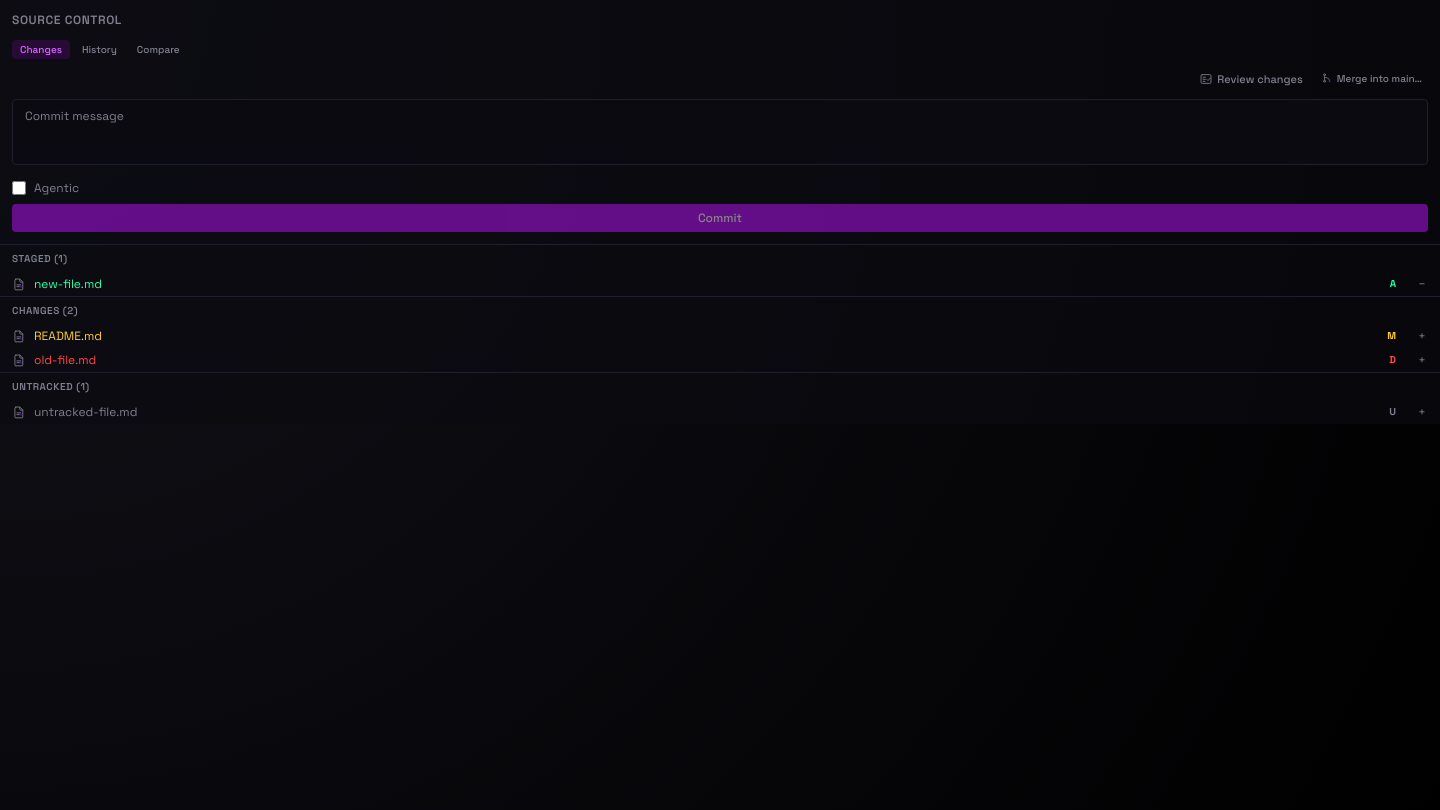
Test: SourceControlPanel › keeps the file when the question is declined
This screenshot has width=1440, height=810.
Right-click the text "README.md" at (68, 336), box x1=34 y1=328 x2=102 y2=344
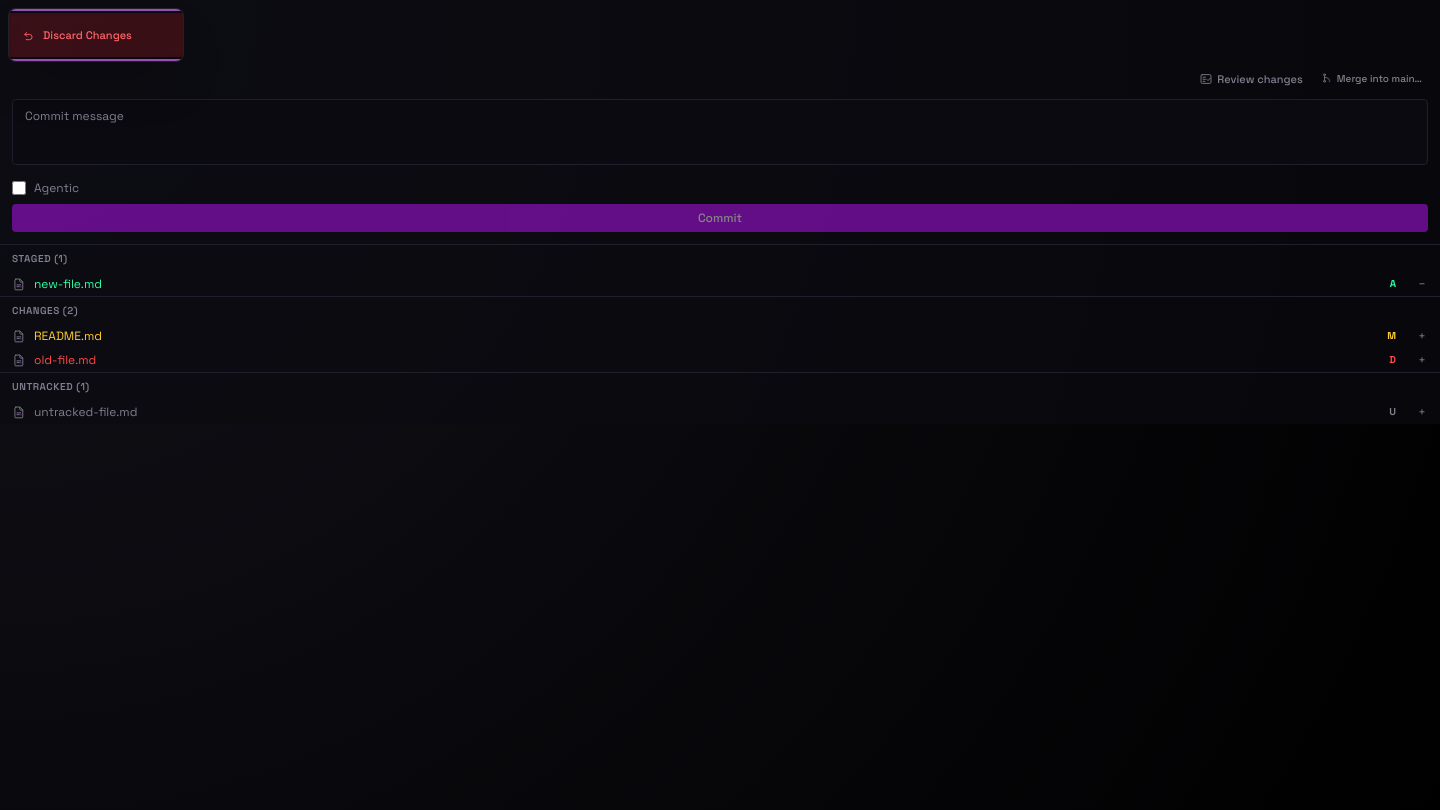
Click the menu item "Discard Changes" at (96, 35), box x1=9 y1=13 x2=183 y2=57
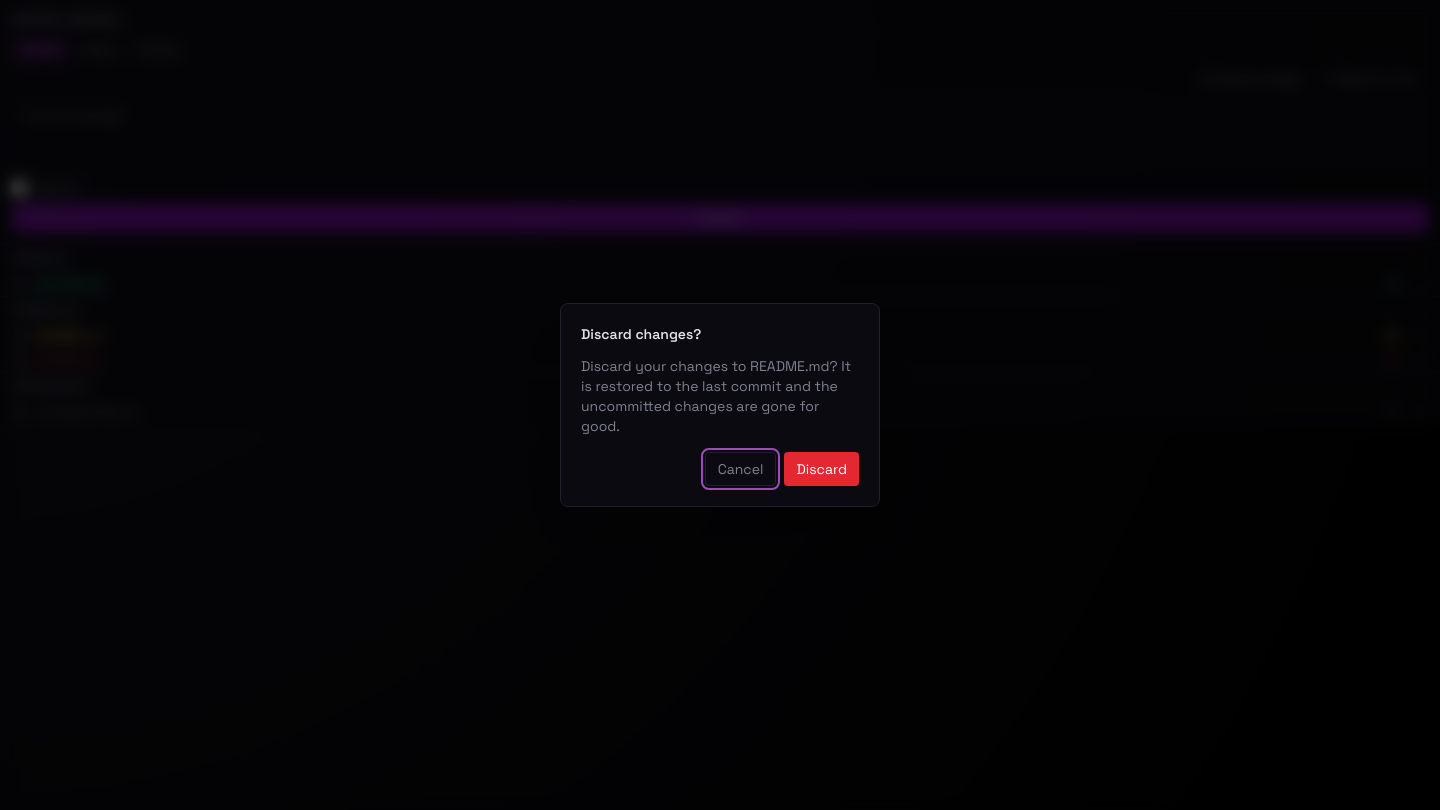
Click the button "Cancel" at (741, 469), box x1=705 y1=452 x2=776 y2=486
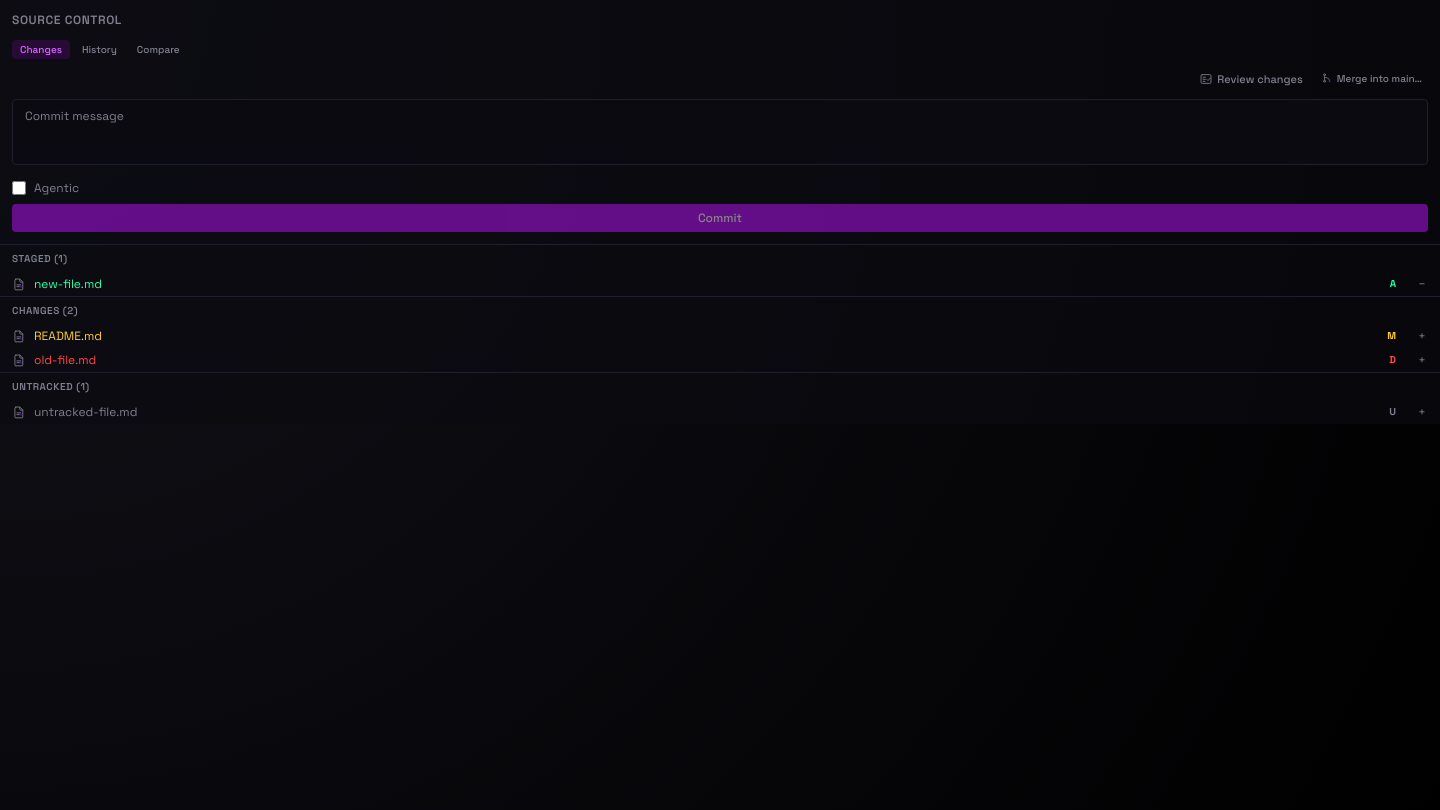
Now the dialog is gone
